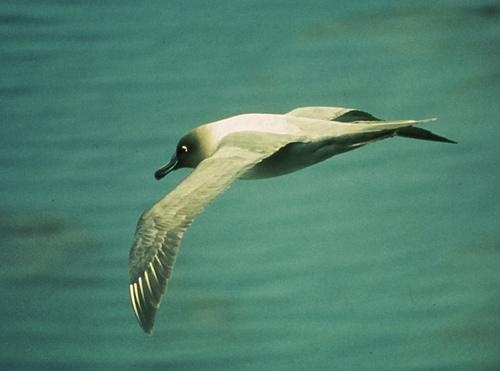bird: (128, 107, 460, 333)
